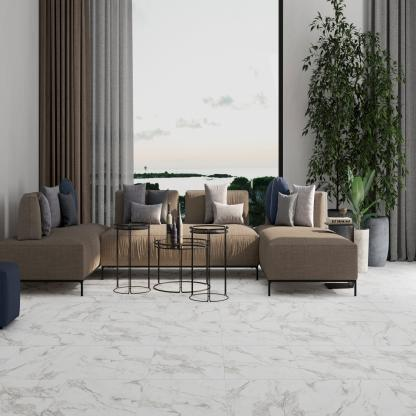Ceramic floor: (0, 255, 416, 416)
